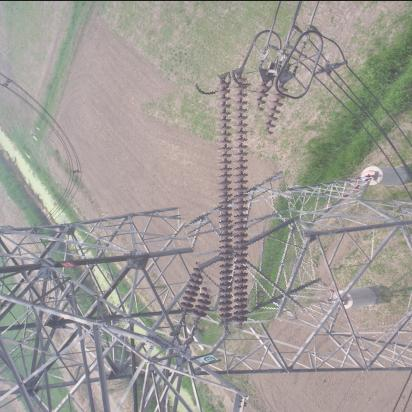insulator: (160, 72, 310, 332)
